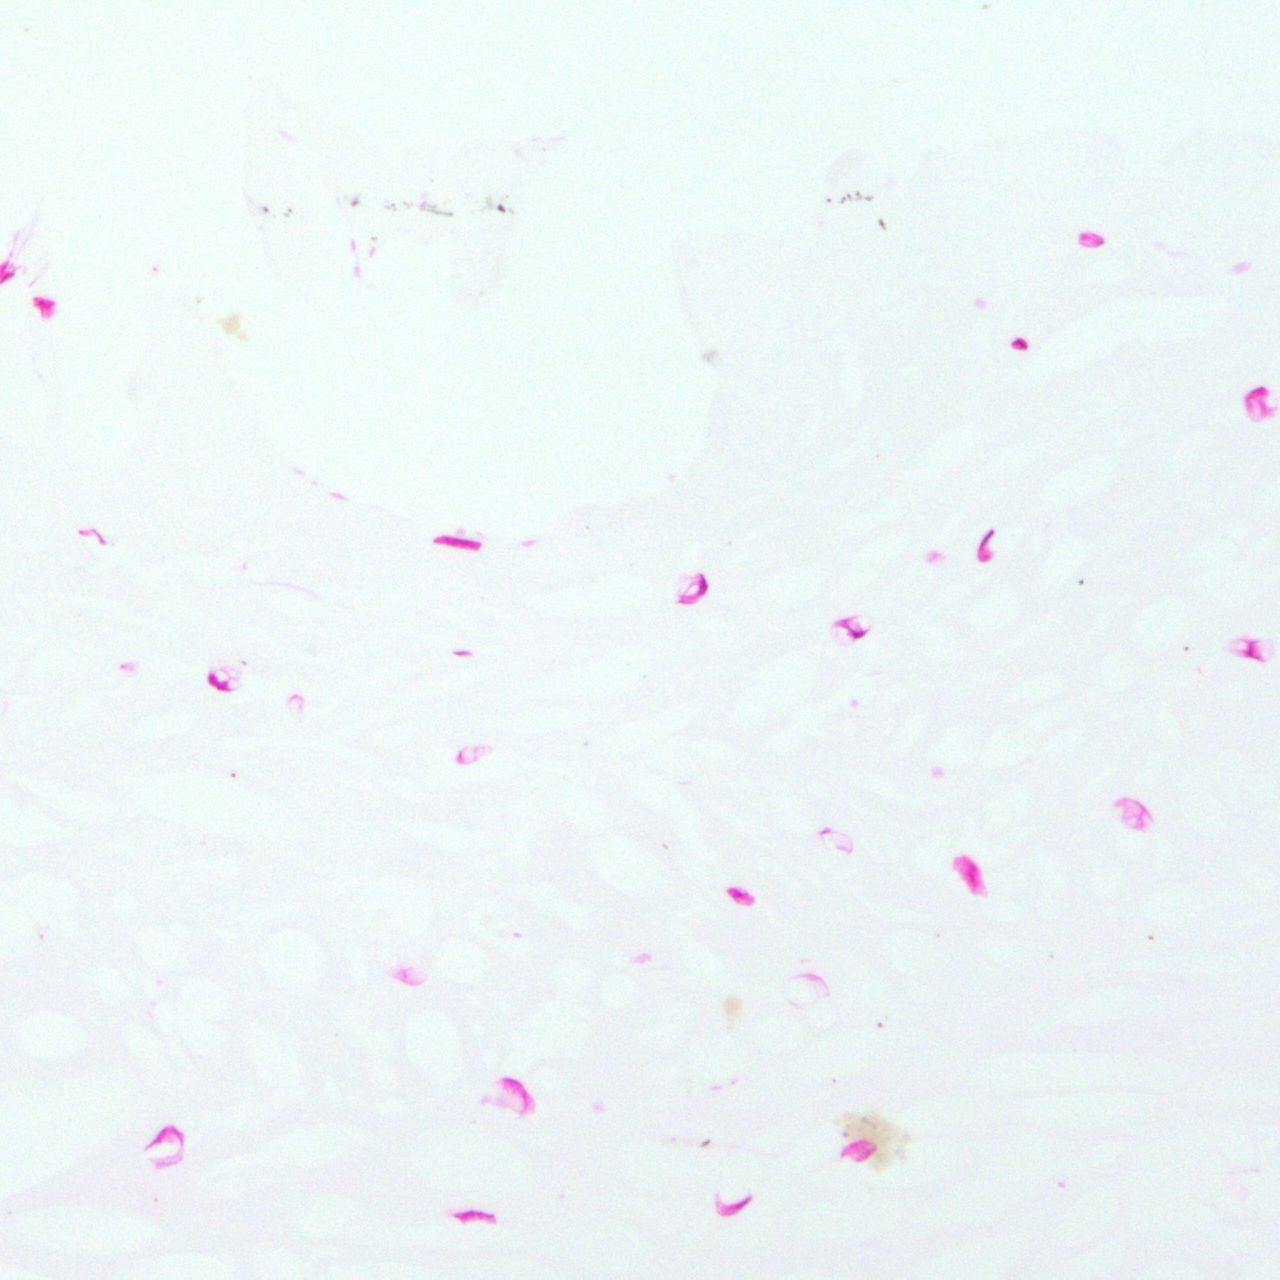dust: (495, 200, 508, 215), (877, 217, 885, 231), (348, 197, 359, 207), (700, 1138, 712, 1148), (1078, 578, 1084, 585), (864, 196, 872, 200), (840, 196, 845, 203), (876, 1022, 883, 1027), (846, 193, 851, 199), (263, 207, 268, 212), (855, 190, 859, 195), (825, 198, 830, 202), (288, 209, 291, 212), (832, 1080, 836, 1082)
nucleus-FG: (493, 1065, 540, 1119), (949, 847, 992, 901), (708, 1177, 754, 1221), (673, 568, 714, 611), (971, 526, 1006, 565), (1242, 384, 1275, 424), (203, 665, 236, 697), (724, 879, 758, 911), (433, 533, 481, 552), (452, 1210, 495, 1224), (1077, 229, 1104, 250), (1010, 336, 1029, 350)
